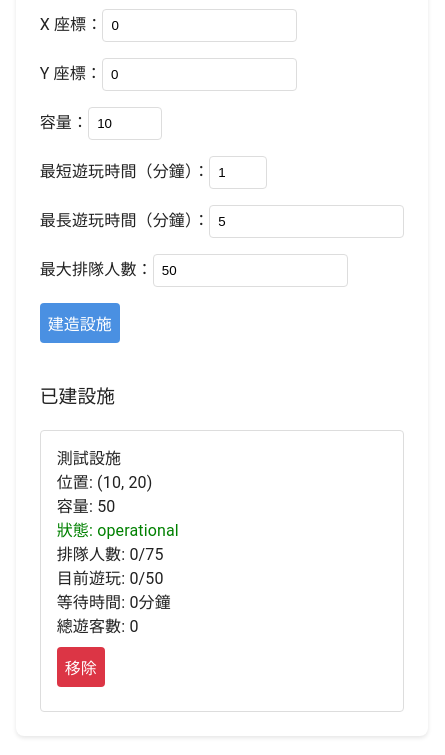
Scenario: FacilityBuilderPanel › 應該能夠取消編輯
(page scrolled)
Click the element with test id "facility-info": (118, 542) [57,449,179,636]
(page scrolled)
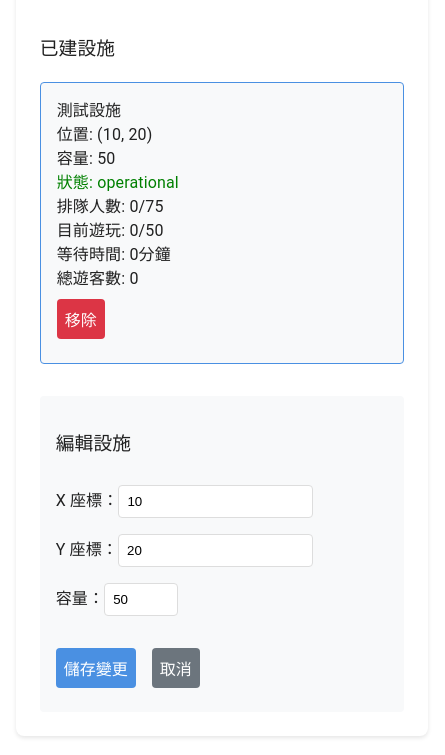
Click the button "取消": (176, 668) [152,648,200,688]
(page scrolled)
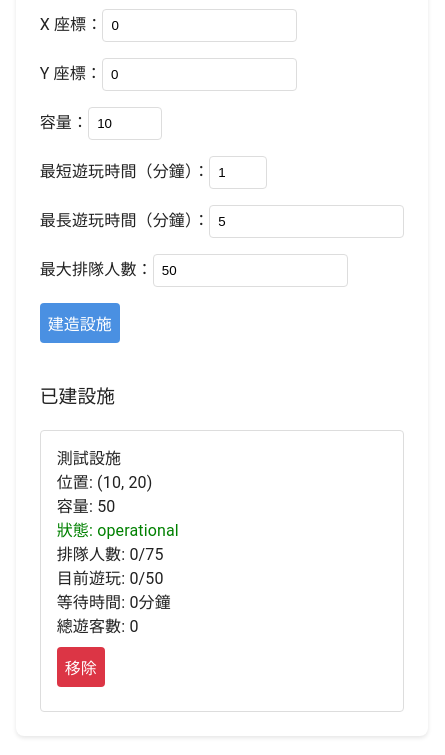
Check: the heading "編輯設施" is gone
